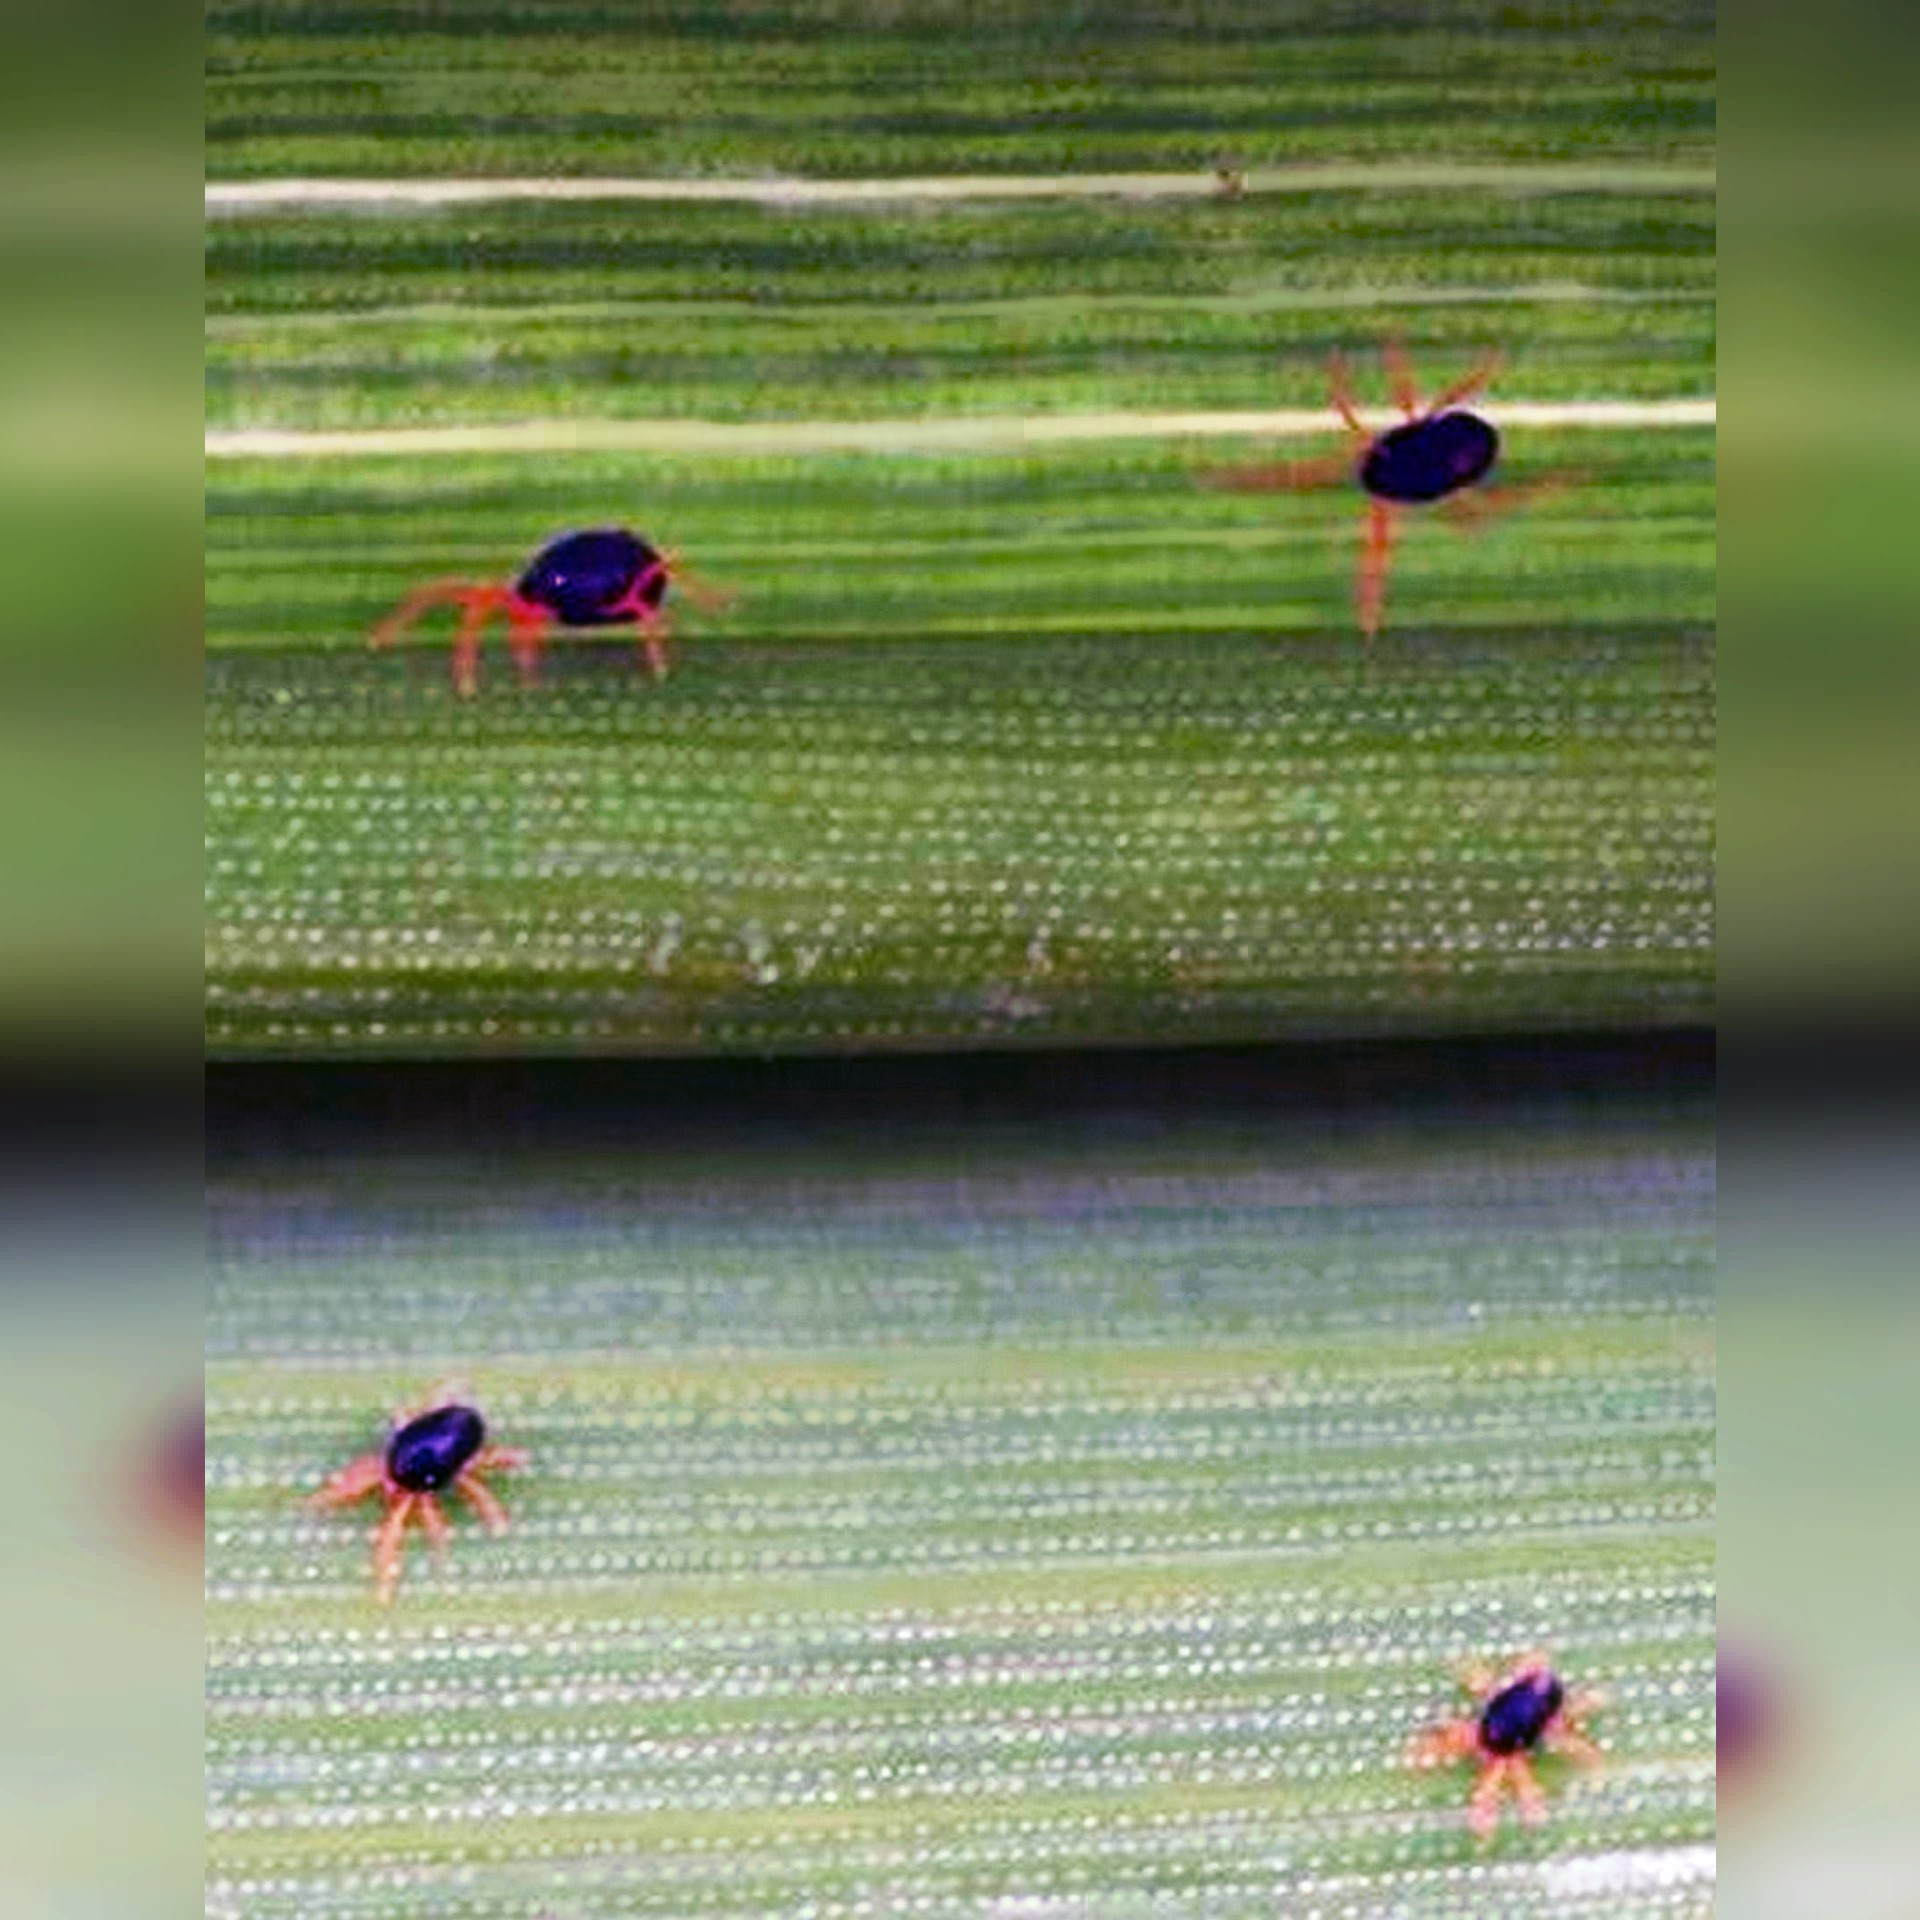Wheat Red Spider: (357, 496, 754, 721), (301, 1333, 543, 1607)
